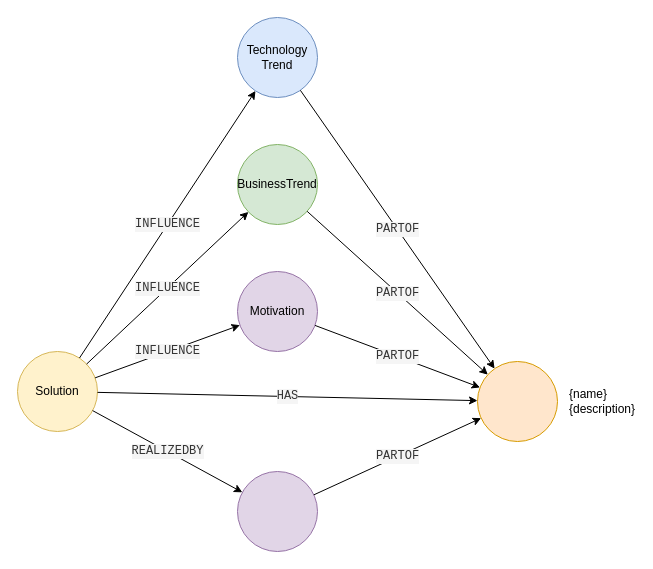
Image size: 653x569. Some labels were removed from this diagram. Here are the shapes that lost their labels. From the top down, the centre of each, then its label:
At (x=517, y=401): "Solution Pattern".
At (x=277, y=511): "Feature".
